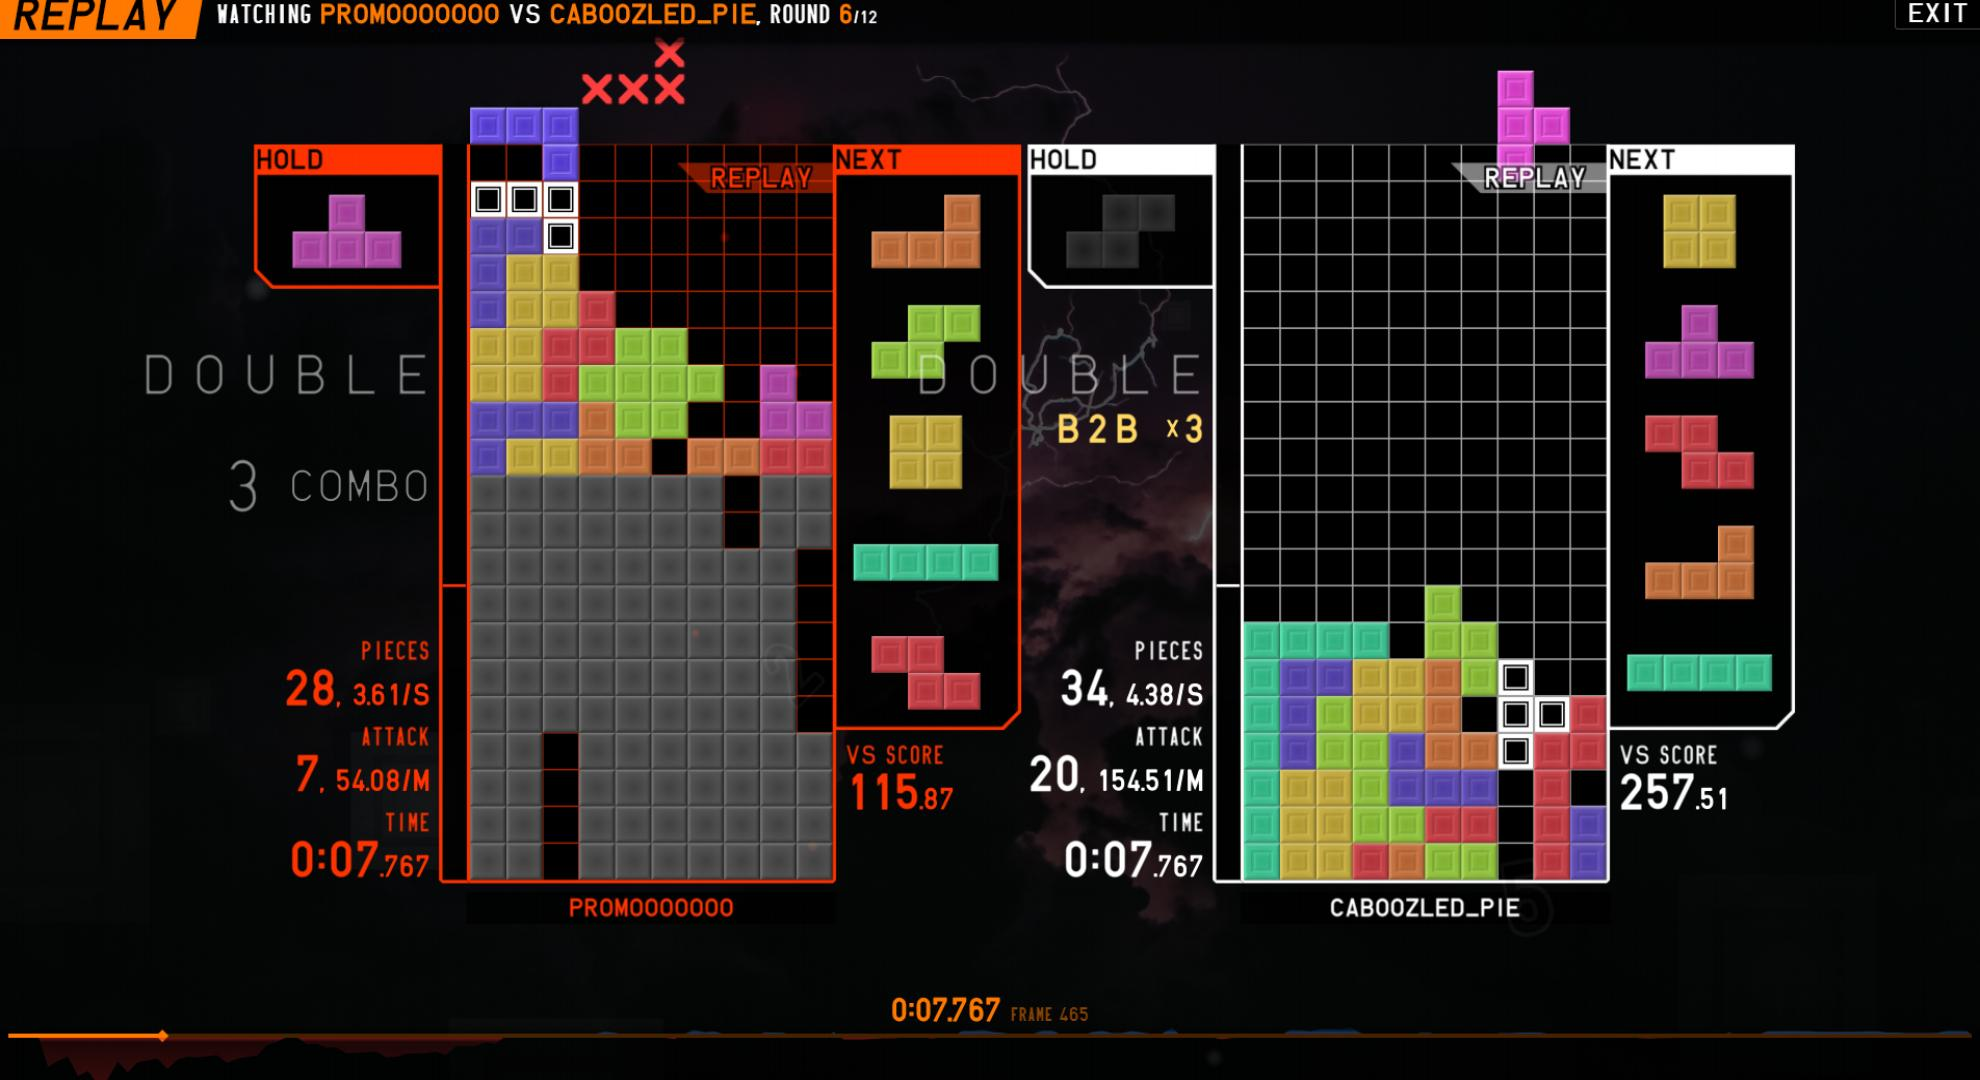tspin: (1461, 654, 1578, 771)
